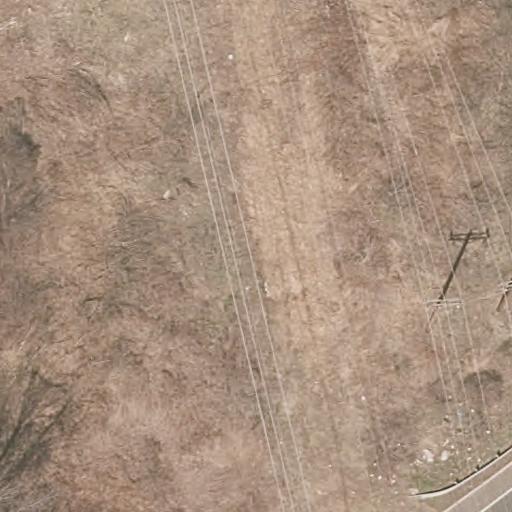DT: (424, 296, 457, 330)
